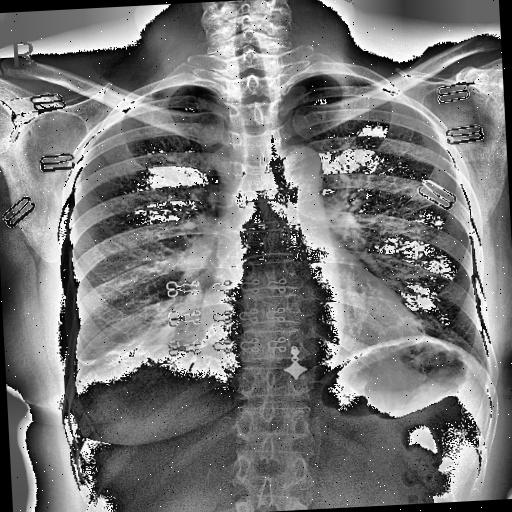0- Aortic enlargement: (270, 144, 324, 187)
11- Pleural thickening: (72, 337, 157, 368)
13- Pulmonary fibrosis: (70, 322, 224, 373), (74, 334, 152, 368), (72, 337, 157, 368)
3- Cardiomegaly: (198, 290, 428, 368)
